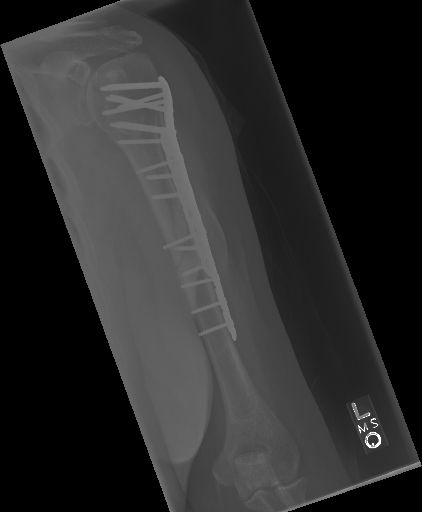implant: (102, 73, 239, 343)
